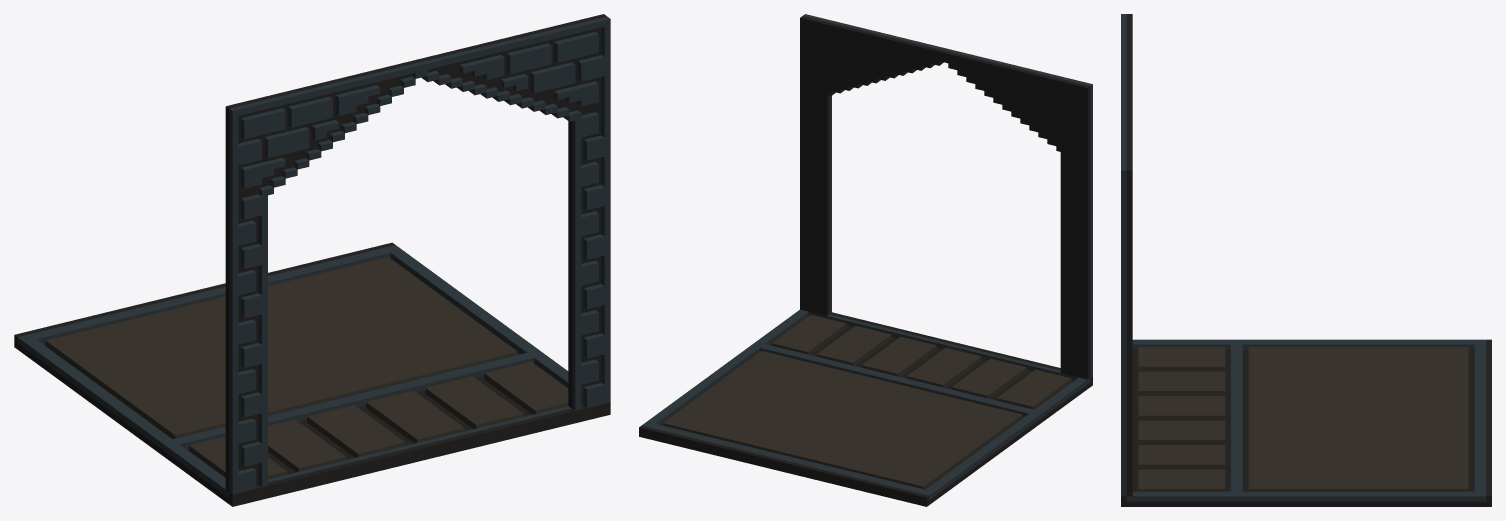
File: corridor_base_gate.obj
3 views of the same model, side by side, from view 1: azimuth 30°, elevation 25°; view 2: azimuth 150°, elevation 25°; view 3: azimuth 270°, elevation 25° (orthographic). The views are drawn at different scales.
Size of the model in its own units: 6.4 by 6.4 by 6.4.
Materials: 1 (1 with a texture image).
